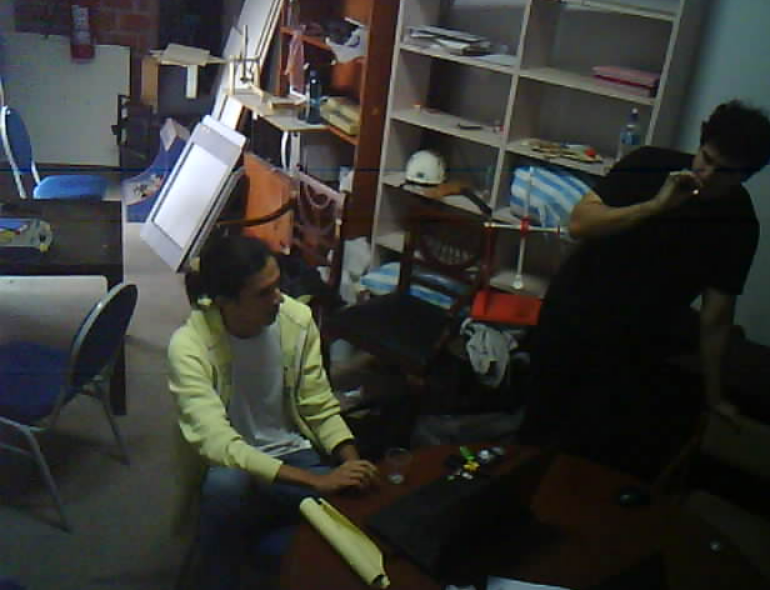person: (506, 99, 770, 489), (148, 211, 393, 590)
